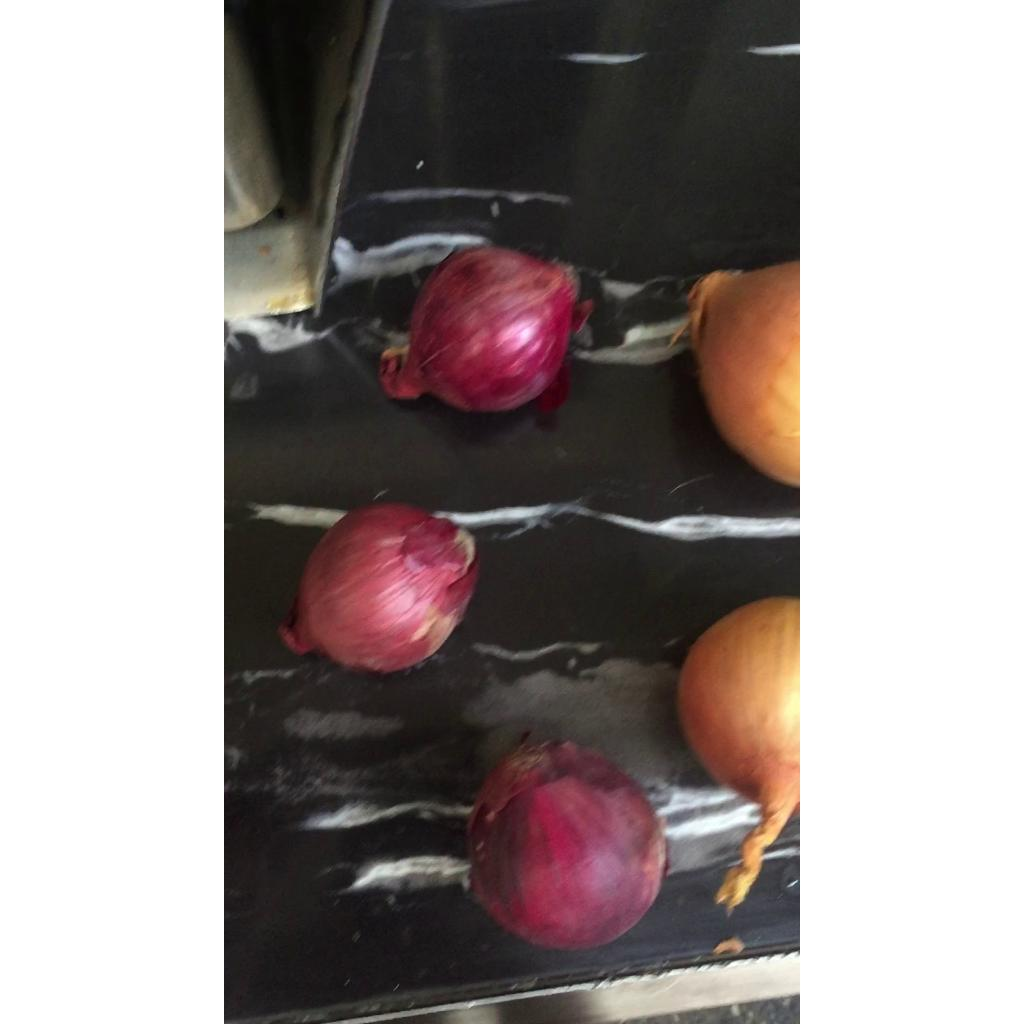Onion: (467, 742, 667, 951), (678, 598, 800, 913), (378, 246, 592, 411), (277, 504, 478, 673), (689, 261, 800, 486)
